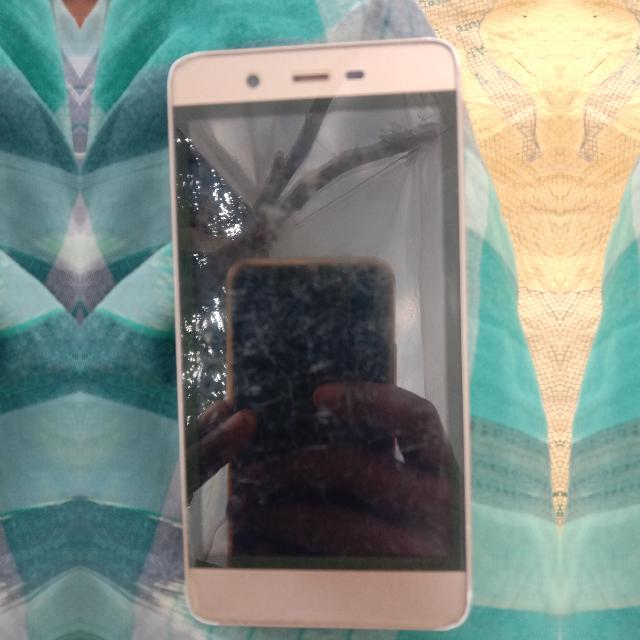phone_screen: (174, 91, 465, 570)
